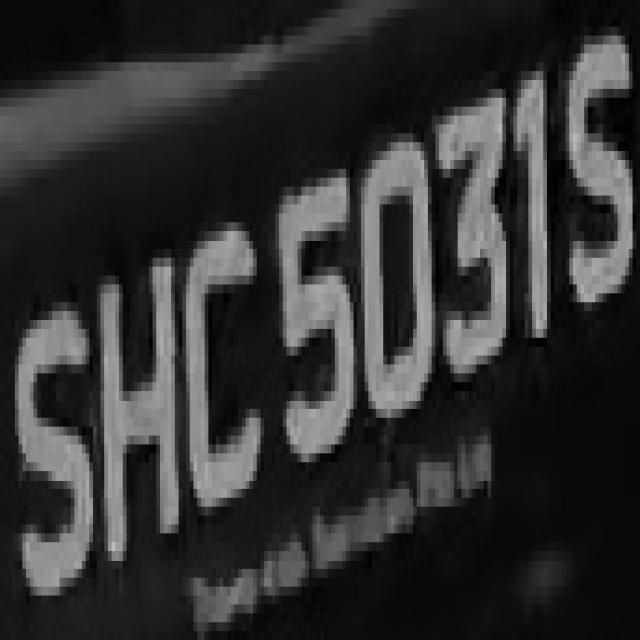0: (361, 116, 439, 453)
1: (510, 71, 558, 382)
3: (436, 80, 518, 391)
5: (276, 142, 358, 489)
C: (182, 213, 272, 542)
H: (93, 240, 182, 578)
S: (7, 284, 97, 640), (558, 9, 640, 338)
